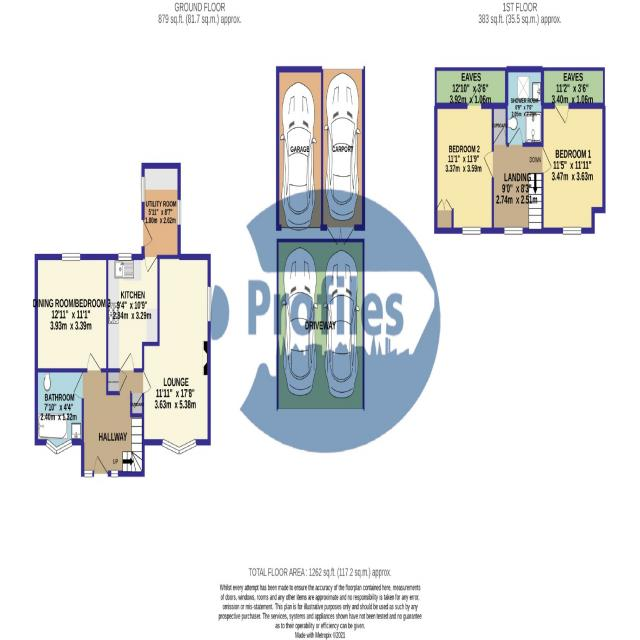DOOR: (93, 454, 109, 477), (141, 218, 153, 248), (554, 102, 569, 125), (467, 86, 482, 109), (72, 371, 84, 399), (87, 351, 102, 373), (483, 150, 494, 179), (541, 145, 552, 174), (508, 126, 523, 147), (119, 351, 134, 372), (142, 369, 152, 395), (144, 254, 157, 273)
ROOM: (142, 254, 211, 456), (434, 87, 494, 234), (35, 254, 108, 373), (541, 102, 606, 234), (106, 253, 160, 373)
WINDOW: (161, 437, 198, 456), (45, 437, 73, 455), (206, 285, 212, 322), (462, 226, 481, 235), (504, 226, 523, 235), (563, 226, 582, 235), (140, 175, 146, 203), (62, 253, 81, 261), (118, 253, 132, 261), (177, 199, 181, 225), (84, 469, 93, 478), (111, 469, 119, 479)
